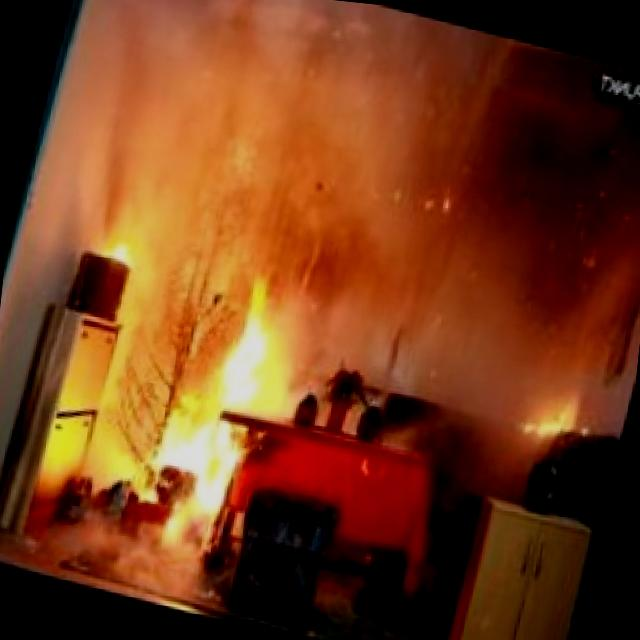fire: (49, 200, 330, 556)
